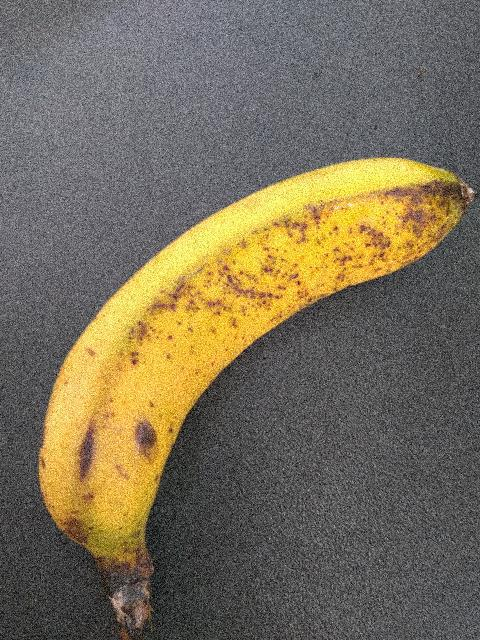ripe: (1, 146, 463, 561)
